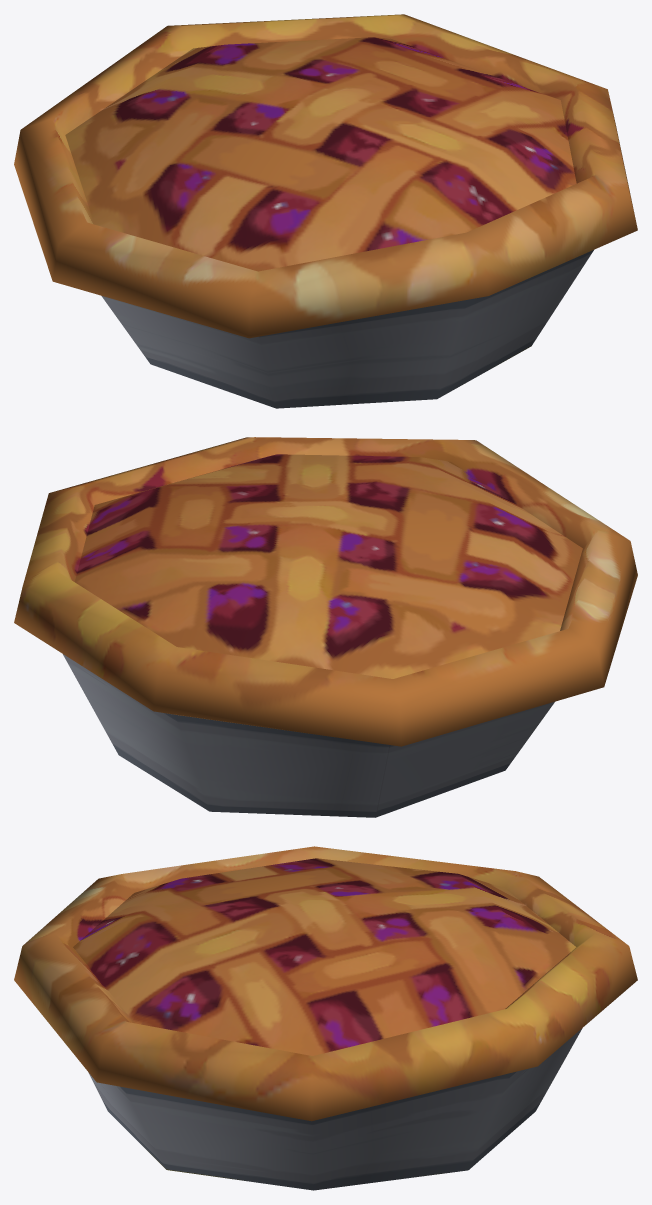
File: SM_PROP_pie_interior_01.fbx
3 renders of one model, top to bottom at view 1: azimuth 30°, elevation 25°; view 2: azimuth 150°, elevation 25°; view 3: azimuth 270°, elevation 25°, orthographic. The views are drawn at different scales.
Visible parts, largest first — view 1: SM_PROP_pie_interior_01; view 2: SM_PROP_pie_interior_01; view 3: SM_PROP_pie_interior_01.
Part boxes in pixels (x1=…): SM_PROP_pie_interior_01: x1=14, y1=14, x2=637, y2=408; SM_PROP_pie_interior_01: x1=14, y1=437, x2=637, y2=817; SM_PROP_pie_interior_01: x1=14, y1=846, x2=637, y2=1190.
Size of the model in its own units: 32.41 by 11.93 by 32.52.
